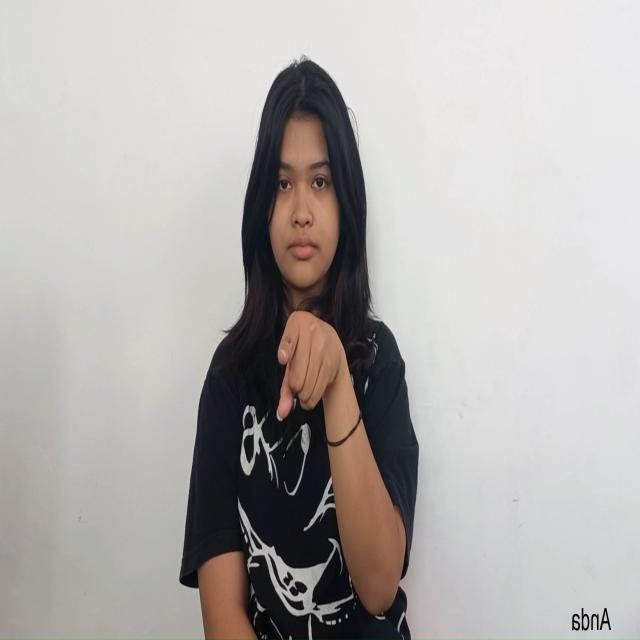Anda -BISINDO-: (276, 308, 342, 422)
